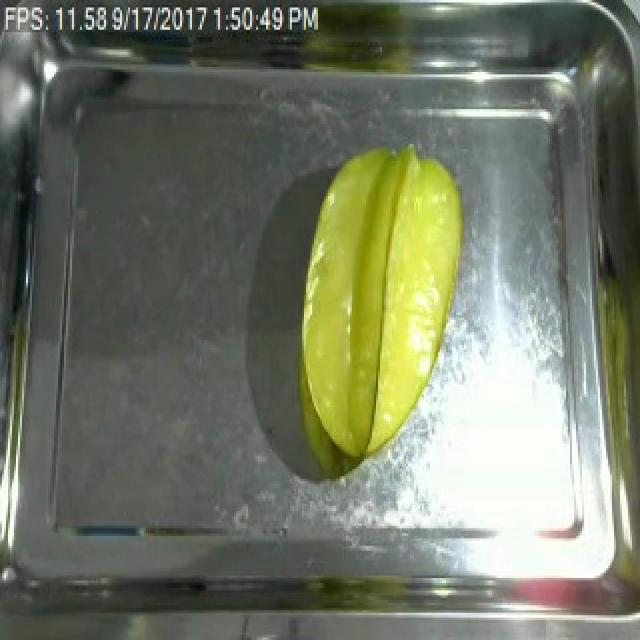fruit: (288, 134, 472, 474)
